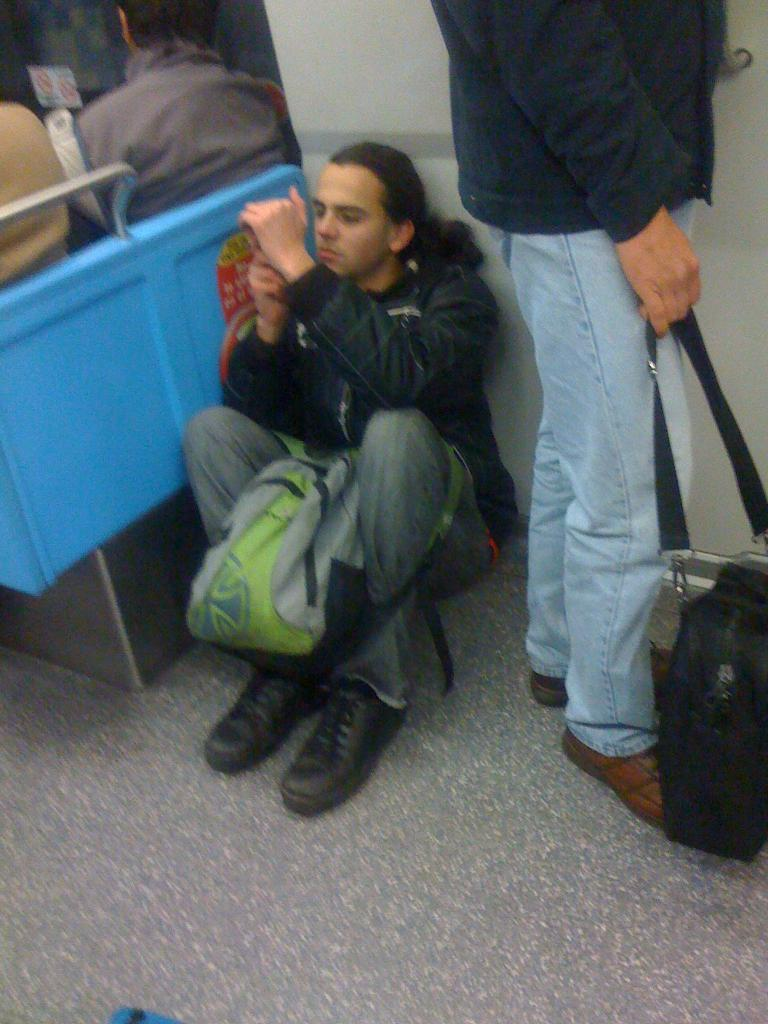Luggage-and-bags: (646, 307, 767, 865), (198, 415, 374, 676)
